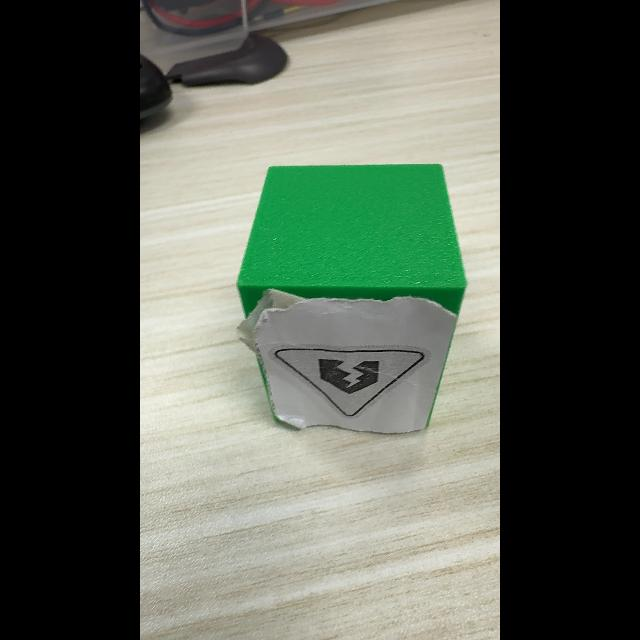Earthquake: (274, 349, 423, 415)
